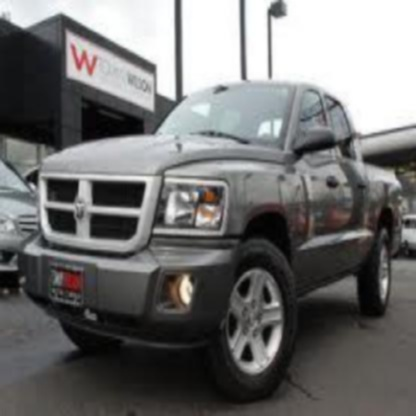Vehicle: (12, 66, 415, 407)
